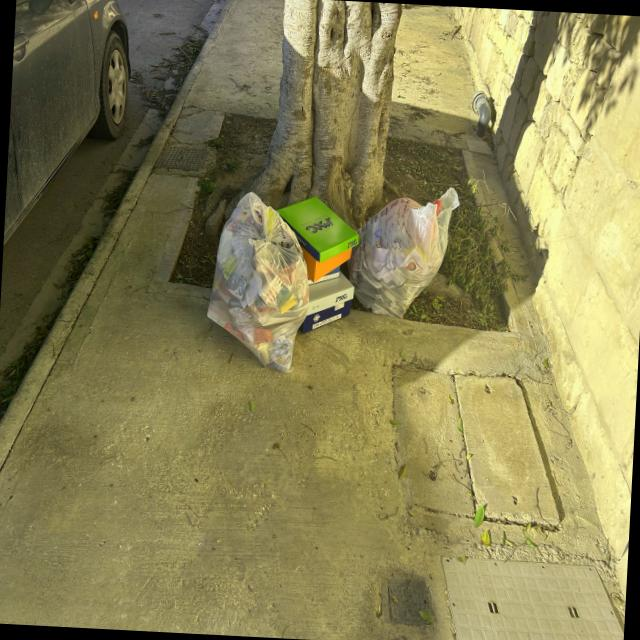grey_bag: (202, 187, 316, 378), (355, 183, 460, 326)
other_waste: (303, 188, 360, 336)
